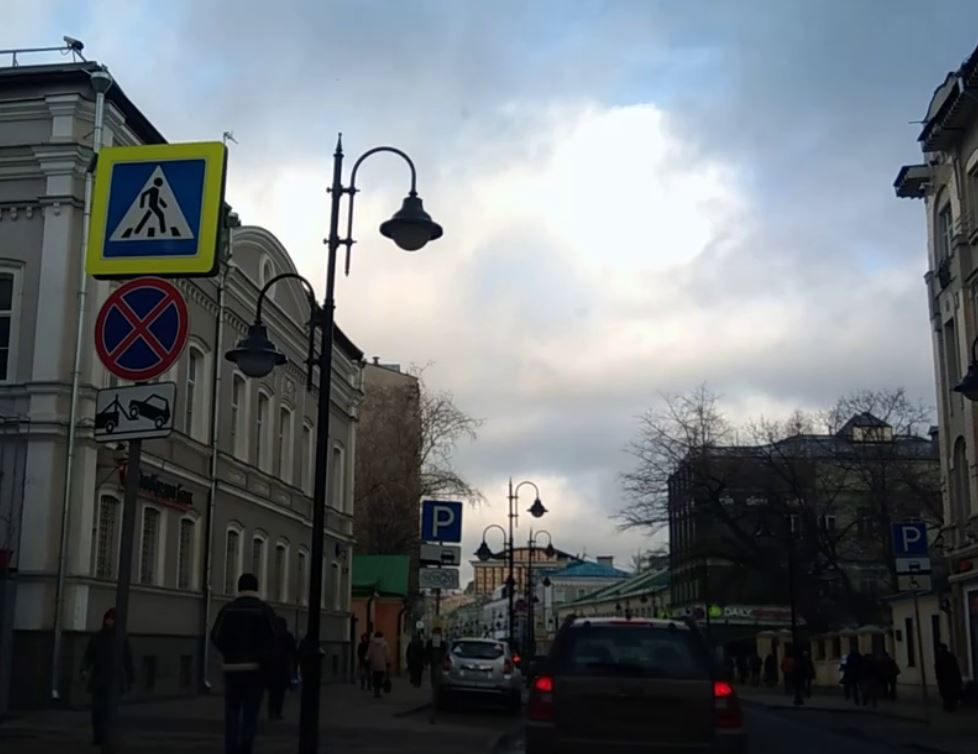Yaya Gecidi: (107, 154, 203, 260)
